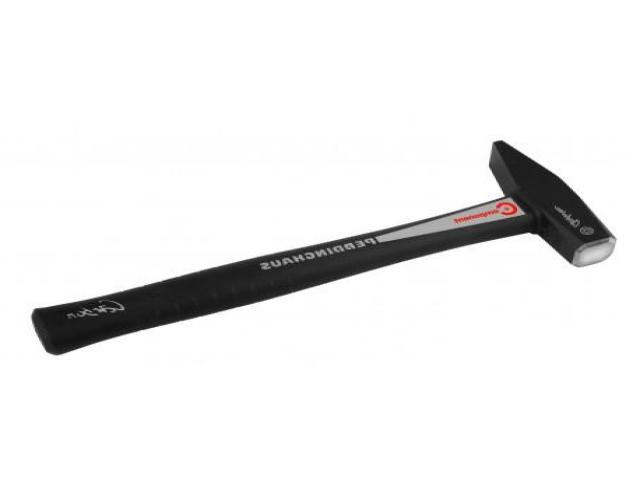hammer: (32, 138, 616, 354)
